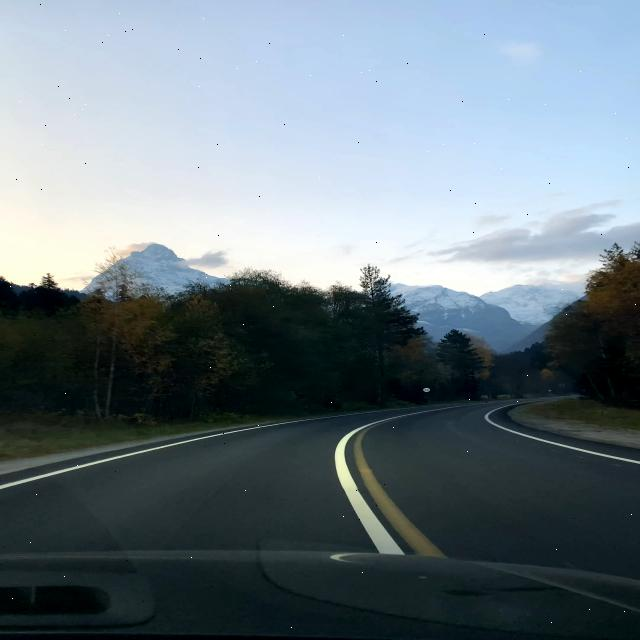lane: (333, 418, 404, 555)
road: (1, 403, 638, 637)
